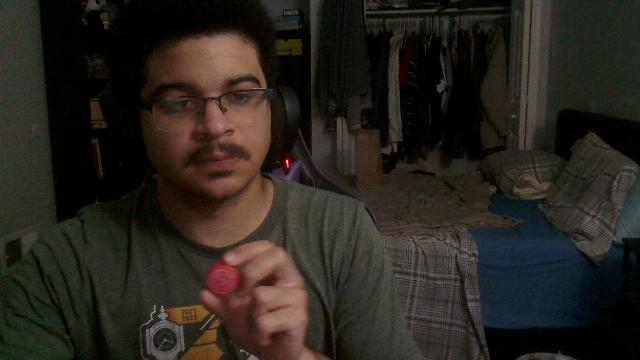cap: (207, 263, 241, 295)
